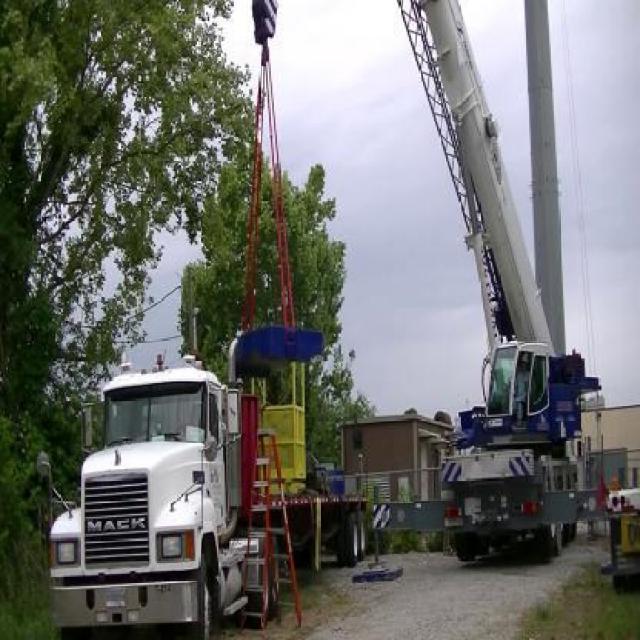Mobile Crane: (382, 0, 586, 551), (38, 458, 74, 639)
